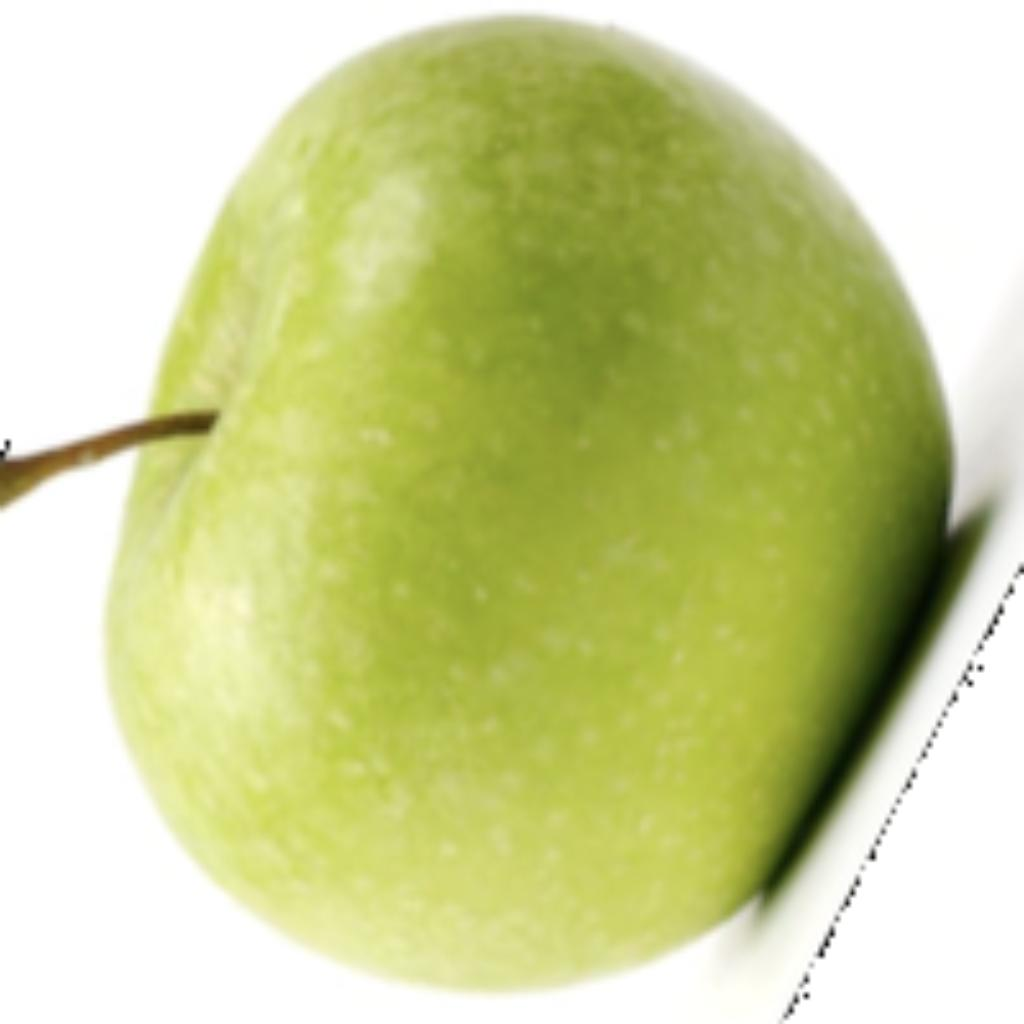apple: (0, 5, 1019, 998)
